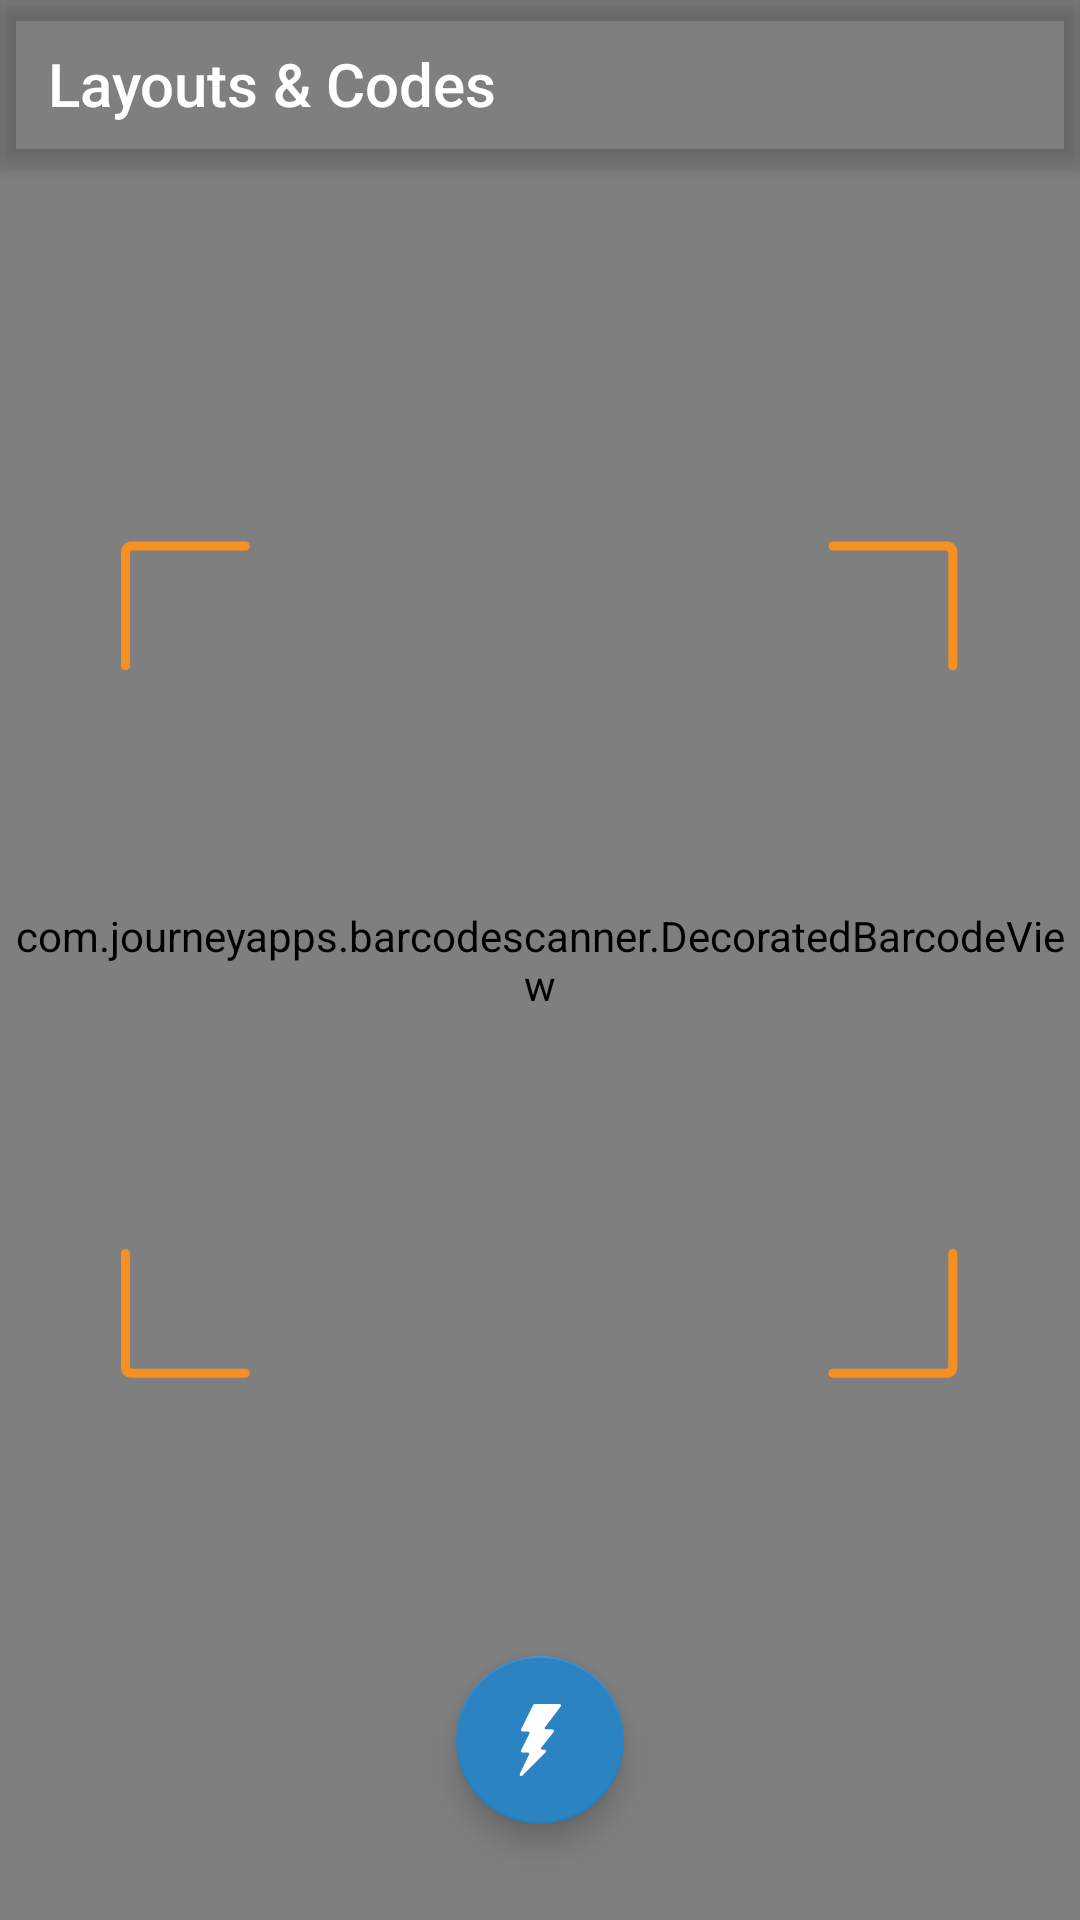

Icons on this 1080px×1920px Android screen, each with the point to tap as (x=x, y=y):
flash: (x=540, y=1740)
